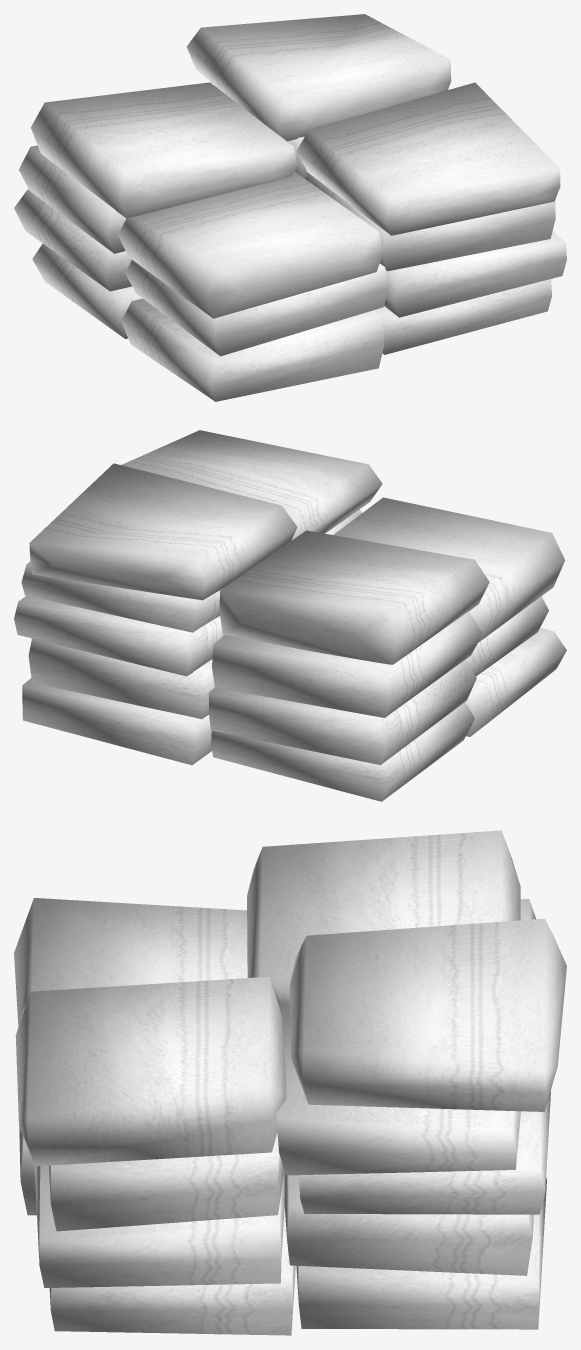
File: p_rus_towel_stack_lrg_lod1.glb
The picture shows the model from 3 angles, top to bottom: view 1: azimuth 30°, elevation 25°; view 2: azimuth 150°, elevation 25°; view 3: azimuth 270°, elevation 25°; orthographic projection. The views are drawn at different scales.
Parts seen in each view (by area): view 1: surf0; view 2: surf0; view 3: surf0.
Part boxes in pixels (x1=…): surf0: x1=14, y1=14, x2=566, y2=401; surf0: x1=14, y1=430, x2=566, y2=801; surf0: x1=14, y1=830, x2=566, y2=1335.
Bounding box in the file's own units: 24.38 × 12.94 × 21.72.
